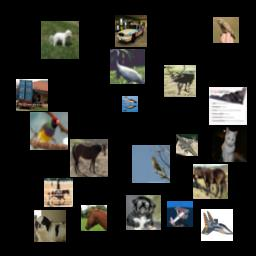airplane: (209, 87, 247, 125), (201, 209, 233, 241), (167, 201, 193, 227), (176, 134, 198, 156)
automobile: (115, 15, 147, 47)
bird: (30, 112, 68, 150), (132, 145, 170, 183), (110, 49, 145, 84), (213, 17, 239, 43), (122, 96, 138, 112)
cat: (212, 127, 247, 162)
deer: (164, 65, 196, 97)
dog: (41, 21, 79, 59), (126, 195, 161, 230), (34, 210, 66, 242)
truck: (16, 79, 48, 111)
